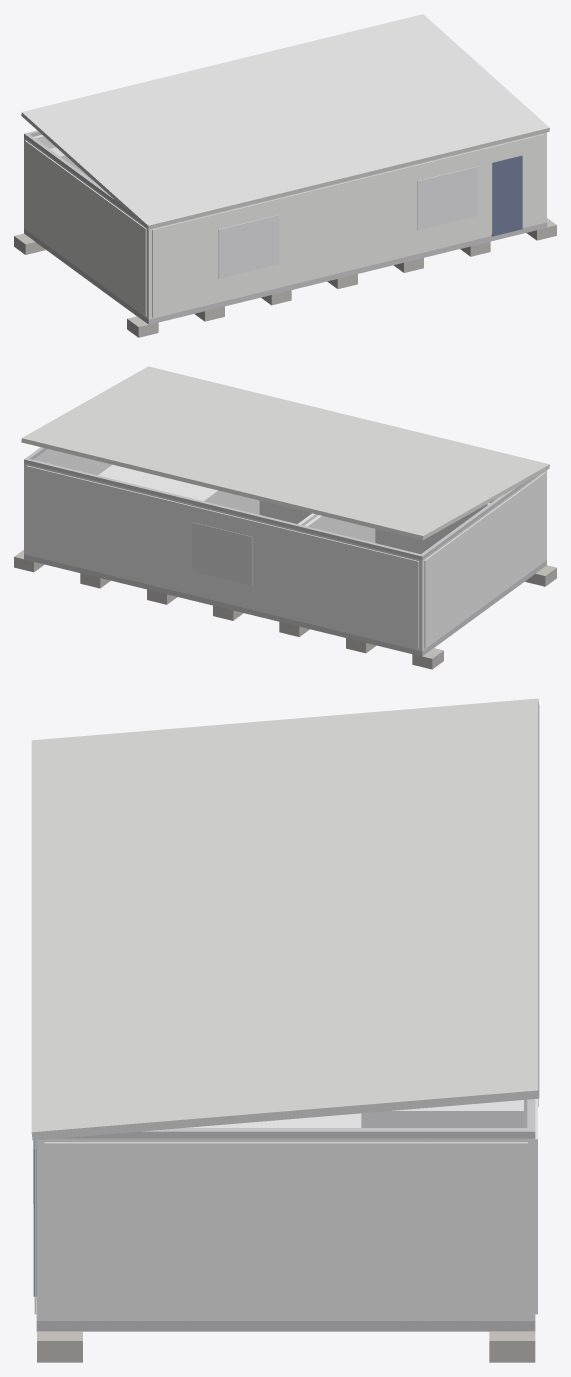
The model's file is Studio-40-Premium+SlopingRoof-LOD3.glb.
3 views of the same model, one above another, from view 1: azimuth 30°, elevation 25°; view 2: azimuth 150°, elevation 25°; view 3: azimuth 270°, elevation 25° (orthographic). The views are drawn at different scales.
Visible parts, largest first — view 1: RoofSlopingUpgrade, ExteriorPanelsPremium, WindowsLargeUpgrade, BaseFrame, FoundationBlocks, ExteriorShell, EntryDoor, TopFrame; view 2: RoofSlopingUpgrade, ExteriorPanelsPremium, ExteriorShell, TopFrame, BaseFrame, WindowsLargeUpgrade, FoundationBlocks, MasterBedroomWalls, SecondaryBedroomWalls, LivingZoneExtended; view 3: RoofSlopingUpgrade, ExteriorPanelsPremium, ExteriorShell, BaseFrame, TopFrame, SecondaryBathroomBase, FoundationBlocks, LivingZoneExtended.
Part boxes in pixels (x1,y1,x2,y2): RoofSlopingUpgrade: [21, 14, 549, 229]; ExteriorPanelsPremium: [25, 134, 544, 317]; WindowsLargeUpgrade: [218, 166, 478, 278]; BaseFrame: [24, 222, 546, 324]; FoundationBlocks: [14, 218, 556, 337]; ExteriorShell: [24, 132, 546, 319]; EntryDoor: [491, 155, 522, 236]; TopFrame: [24, 130, 135, 218]; RoofSlopingUpgrade: [21, 366, 549, 540]; ExteriorPanelsPremium: [26, 465, 545, 649]; ExteriorShell: [24, 449, 546, 651]; TopFrame: [24, 447, 537, 559]; BaseFrame: [24, 554, 546, 656]; WindowsLargeUpgrade: [192, 522, 252, 585]; FoundationBlocks: [14, 550, 556, 669]; MasterBedroomWalls: [304, 503, 489, 554]; SecondaryBedroomWalls: [200, 489, 318, 525]; LivingZoneExtended: [98, 464, 214, 500]; RoofSlopingUpgrade: [31, 698, 539, 1140]; ExteriorPanelsPremium: [34, 1098, 537, 1318]; ExteriorShell: [36, 1138, 535, 1321]; BaseFrame: [36, 1321, 535, 1331]; TopFrame: [57, 1099, 535, 1138]; SecondaryBathroomBase: [361, 1100, 523, 1127]; FoundationBlocks: [37, 1331, 535, 1362]; LivingZoneExtended: [186, 1113, 361, 1127].
Size of the model in its own units: 12.49 by 3.76 by 6.56.
